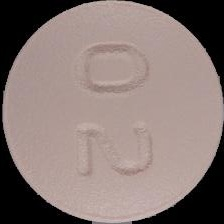49999-889: (0, 0, 224, 224)
